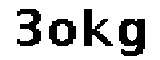3: (13, 4, 44, 52)
g: (117, 15, 152, 60)
k: (82, 6, 114, 51)
o: (47, 17, 78, 50)
